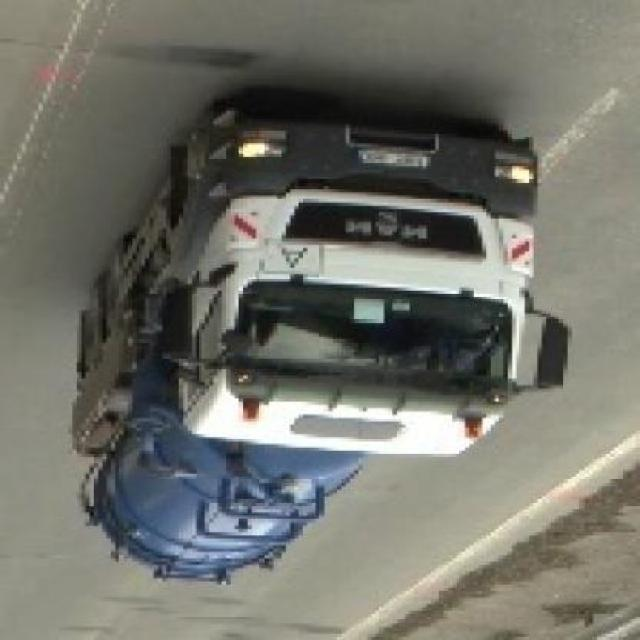truck: (70, 102, 577, 593)
